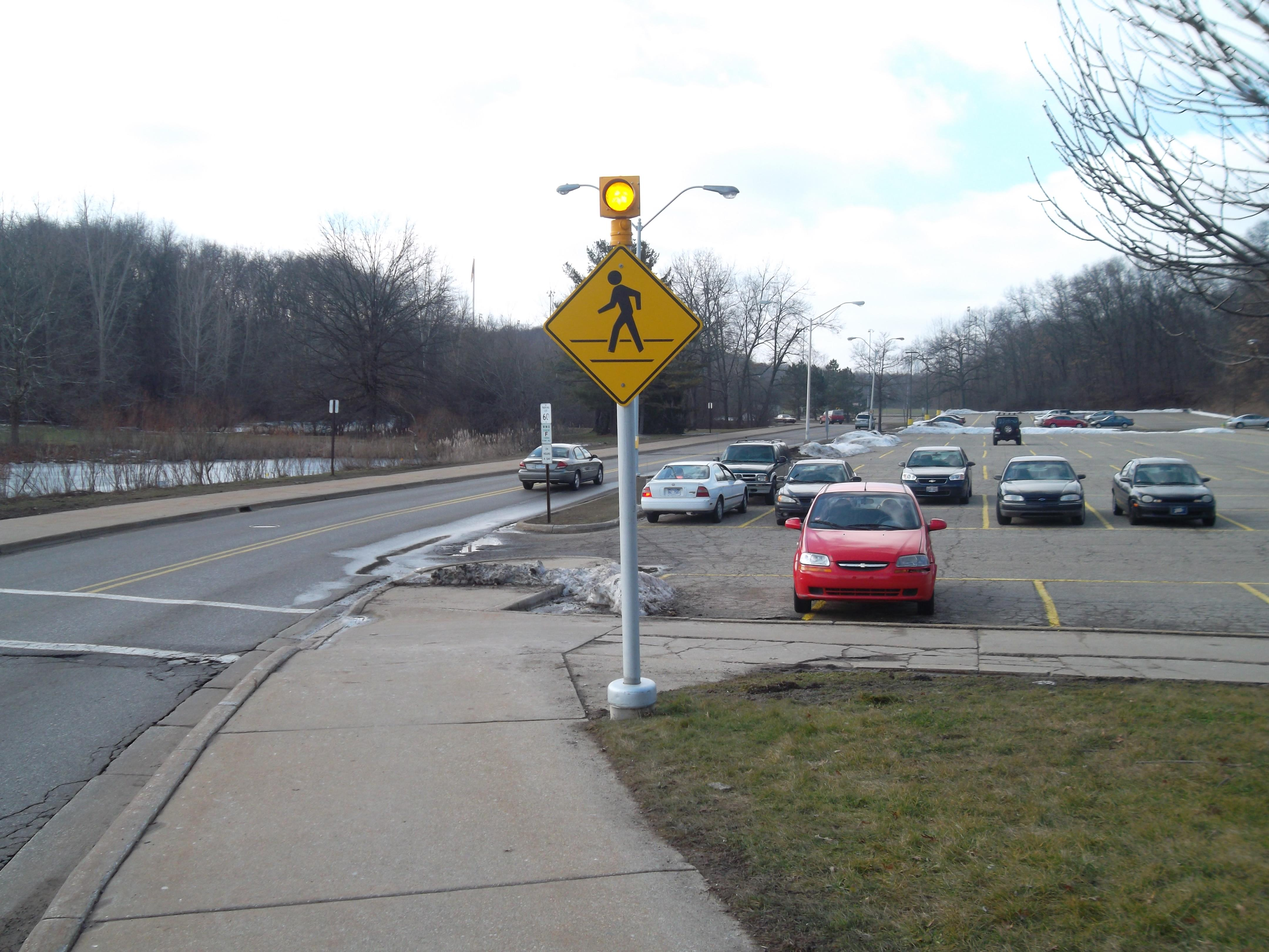Pedestrian Crossing: (540, 327, 656, 442)
